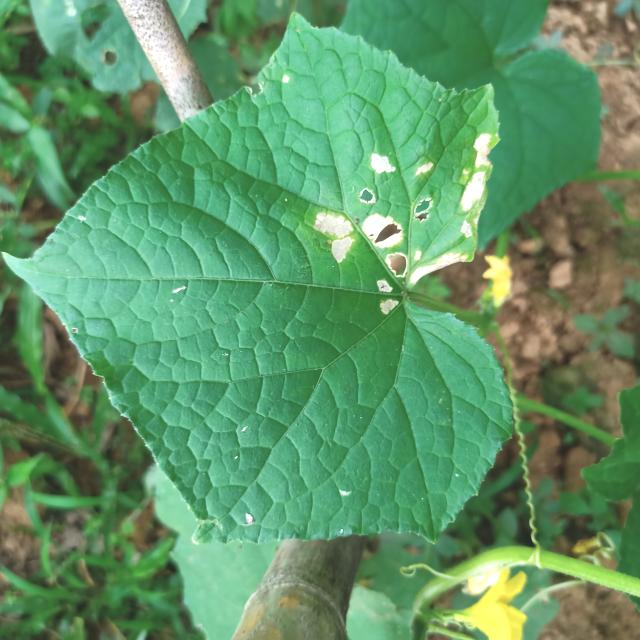disease_cucumber: (314, 133, 492, 317)
